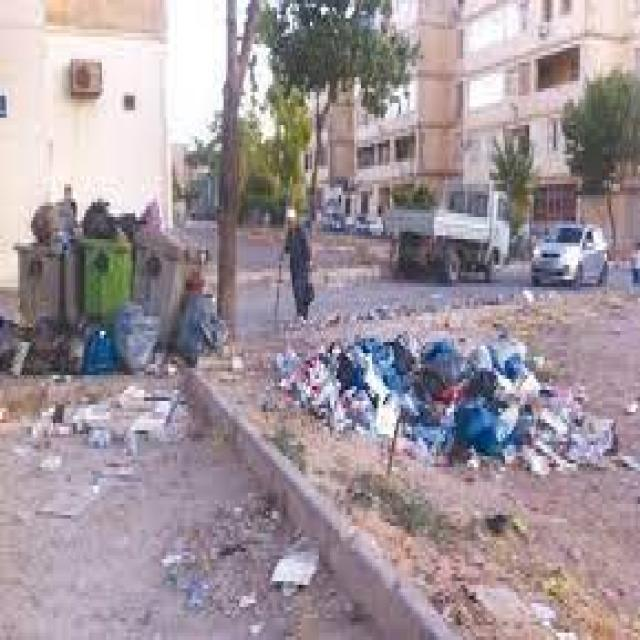garbage: (0, 203, 222, 427), (270, 333, 614, 453)
